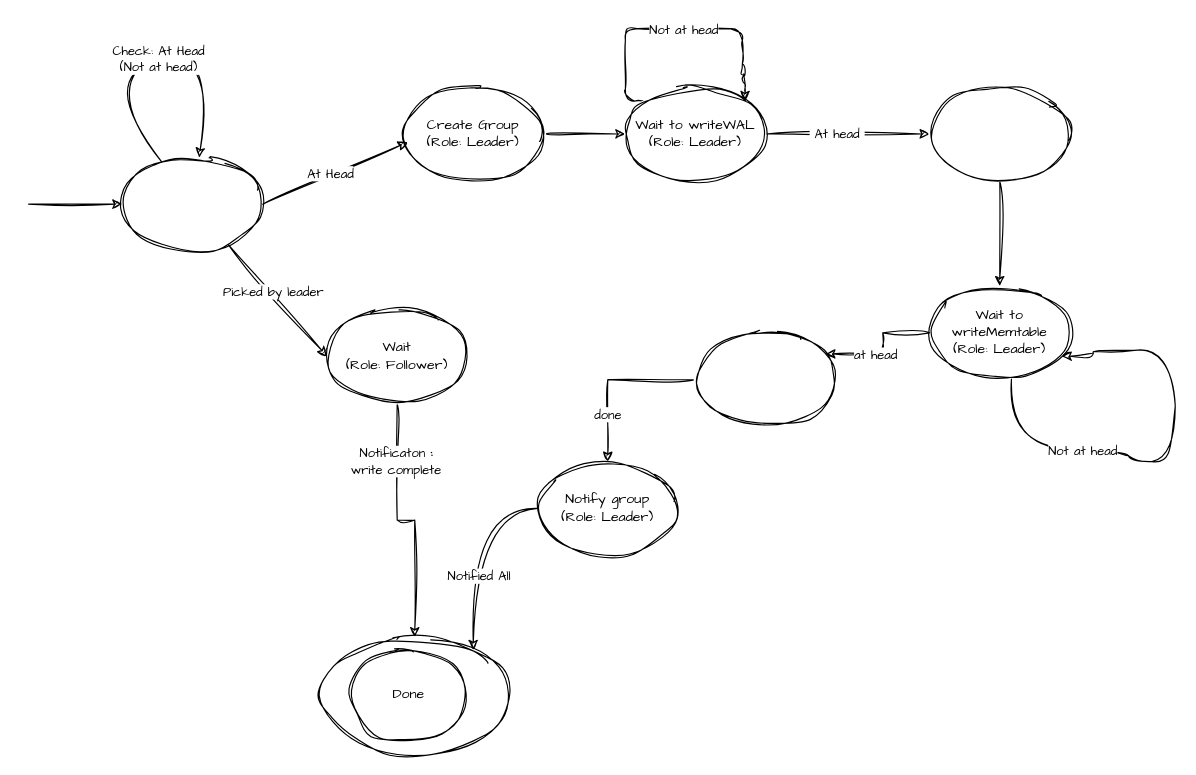
The diagram is 1196 pixels wide and 775 high, and some of its shapes have lost their labels. The shapes that lost their labels are listed below. From the top down, each one's centre as x and y in pixels, then its label:
the point at 999,133: Write WAL (Role: Leader)
the point at 192,203: Requesting Membership (Role: Follower)
the point at 765,379: Write Memtable (Role: Leader)
